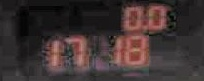-: (140, 23, 147, 29)
0: (120, 4, 139, 29), (147, 4, 163, 29)
1: (44, 38, 60, 67), (107, 35, 120, 65)
7: (64, 34, 85, 67)
8: (122, 33, 145, 66)
